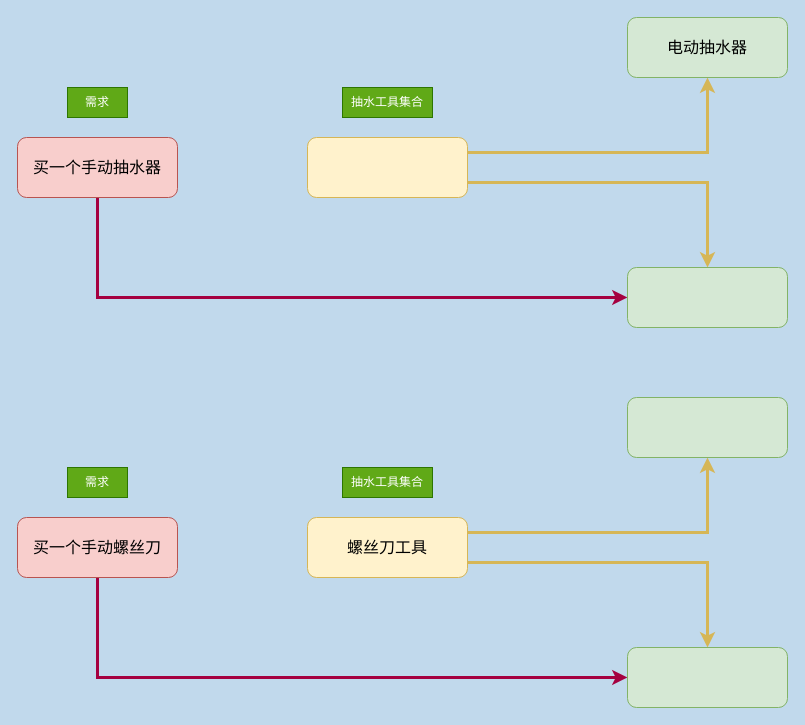
This 805x725 diagram has some shape labels left out. Here are the shapes that lost their labels. From the top down, the centre of each, then its label:
pixel 387 167: 抽水工具
pixel 707 297: 手动抽水器
pixel 707 427: 电动螺丝刀
pixel 707 677: 手动抽水
